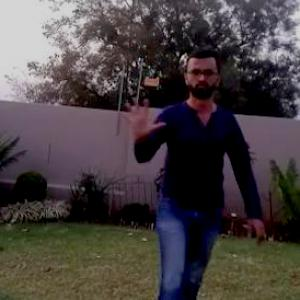follow_hand: (118, 92, 166, 136)
